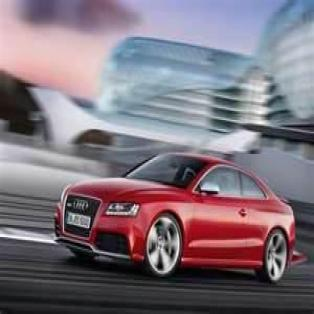Auto: (53, 151, 296, 283)
